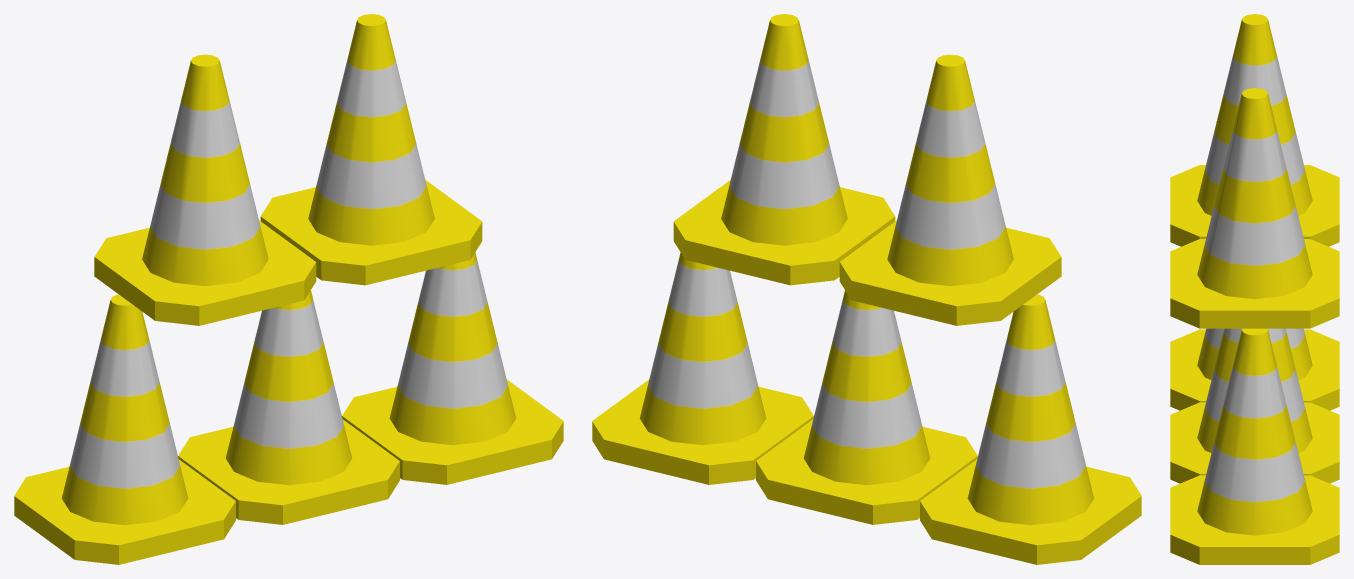
File: conuses_2_destroy.fbx
The picture shows the model from 3 angles, left to right: view 1: azimuth 30°, elevation 25°; view 2: azimuth 150°, elevation 25°; view 3: azimuth 270°, elevation 25°; orthographic projection. The views are drawn at different scales.
Visible parts, largest first — view 1: conuses_2_destroy.001, conuses_2_destroy.004, conuses_2_destroy.002, conuses_2_destroy, conuses_2_destroy.003; view 2: conuses_2_destroy.001, conuses_2_destroy.004, conuses_2_destroy.002, conuses_2_destroy, conuses_2_destroy.003; view 3: conuses_2_destroy.002, conuses_2_destroy.003, conuses_2_destroy.001, conuses_2_destroy, conuses_2_destroy.004.
Part boxes in pixels (bbox=[...]): conuses_2_destroy.001: bbox=[94, 54, 316, 325]; conuses_2_destroy.004: bbox=[14, 294, 235, 564]; conuses_2_destroy.002: bbox=[260, 14, 482, 285]; conuses_2_destroy: bbox=[178, 290, 399, 524]; conuses_2_destroy.003: bbox=[342, 252, 563, 484]; conuses_2_destroy.001: bbox=[839, 54, 1061, 325]; conuses_2_destroy.004: bbox=[920, 294, 1141, 564]; conuses_2_destroy.002: bbox=[673, 14, 895, 285]; conuses_2_destroy: bbox=[756, 290, 977, 524]; conuses_2_destroy.003: bbox=[592, 252, 813, 484]; conuses_2_destroy.002: bbox=[1170, 88, 1339, 328]; conuses_2_destroy.003: bbox=[1170, 328, 1339, 564]; conuses_2_destroy.001: bbox=[1170, 14, 1339, 246]; conuses_2_destroy: bbox=[1170, 328, 1339, 483]; conuses_2_destroy.004: bbox=[1170, 328, 1339, 410].
Bounding box in the file's own units: 265 × 227 × 87.27.
